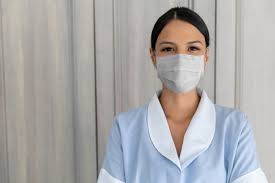with_mask: (160, 35, 200, 76)
